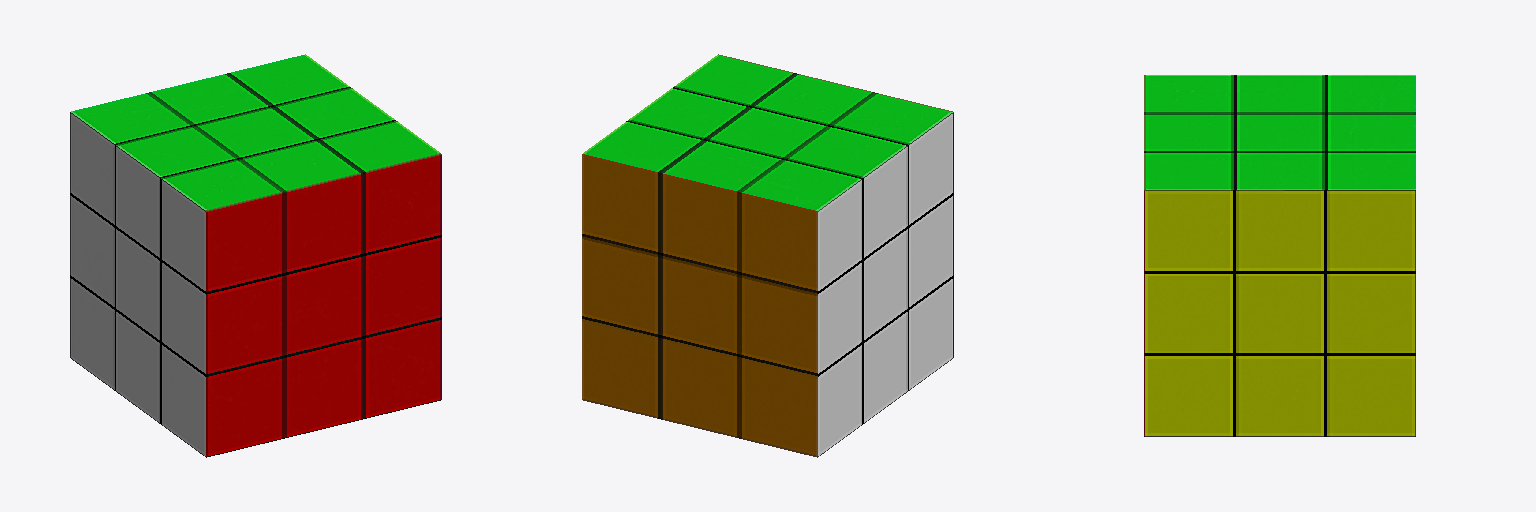
3 renders of one model, left to right at view 1: azimuth 30°, elevation 25°; view 2: azimuth 150°, elevation 25°; view 3: azimuth 270°, elevation 25°, orthographic.
Parts seen in each view (by area): view 1: rubik; view 2: rubik; view 3: rubik.
Boxes of the visible parts, box(x1,y1,x2,y2) form: rubik: box(70, 54, 441, 457); rubik: box(582, 54, 953, 457); rubik: box(1144, 75, 1415, 436).
Size of the model in its own units: 0.0192 by 0.0192 by 0.0192.
1 materials, 1 textured.